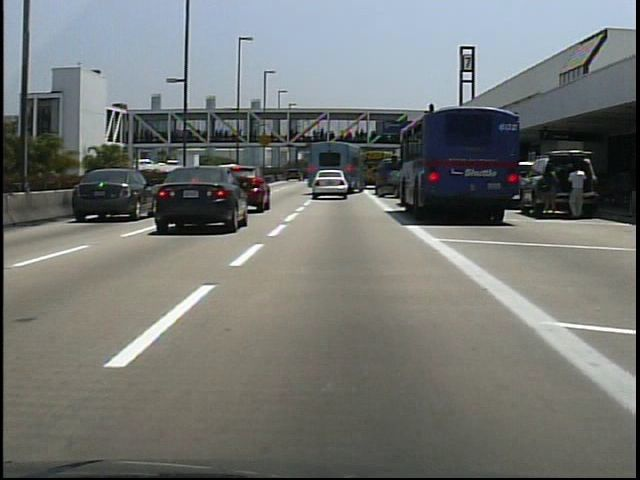person: (561, 162, 587, 224), (533, 161, 559, 223)
